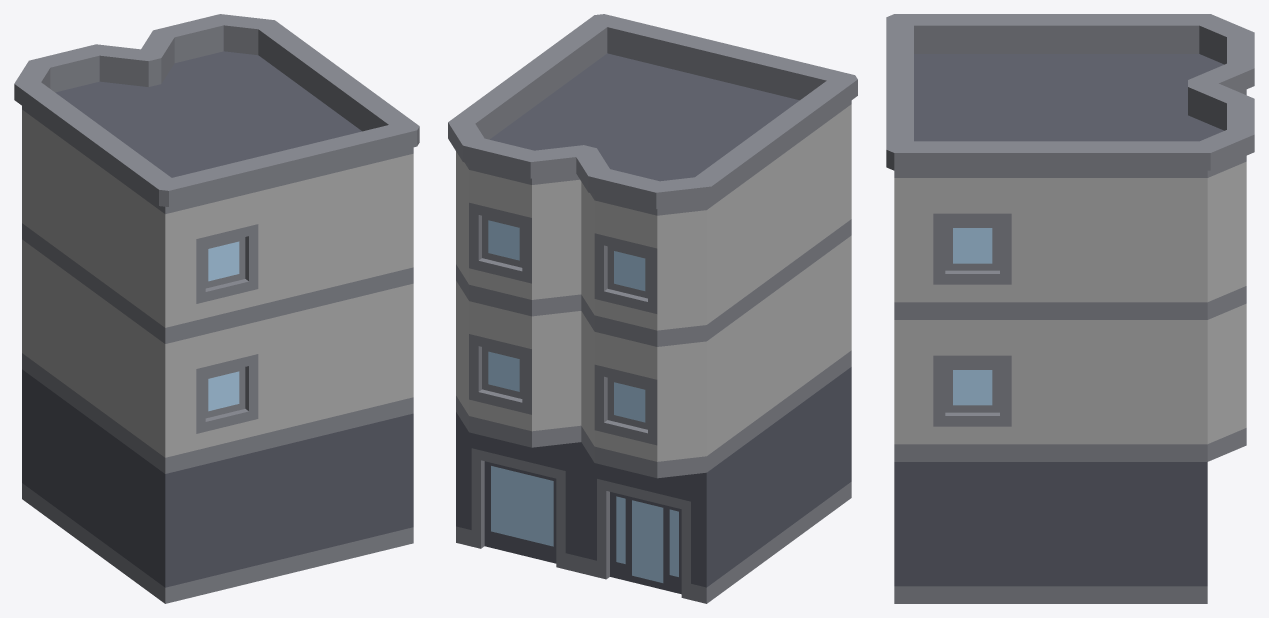
The model's file is small_buildingA.dae.
3 renders of one model, left to right at view 1: azimuth 30°, elevation 25°; view 2: azimuth 150°, elevation 25°; view 3: azimuth 270°, elevation 25°, orthographic. The views are drawn at different scales.
Visible parts, largest first — view 1: small_buildingA; view 2: small_buildingA; view 3: small_buildingA.
Part boxes in pixels (x1=…): small_buildingA: x1=14, y1=14, x2=419, y2=603; small_buildingA: x1=448, y1=14, x2=857, y2=603; small_buildingA: x1=886, y1=14, x2=1254, y2=603.
Size of the model in its own units: 0.84 by 1.28 by 0.94.
